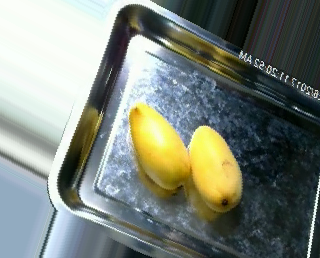Mango: (126, 103, 191, 188), (187, 125, 245, 214)
